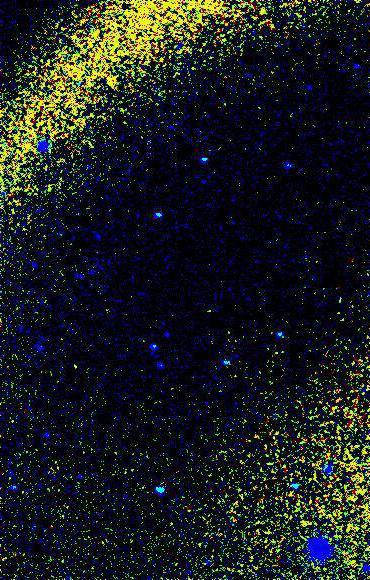star: (94, 63, 124, 93)
